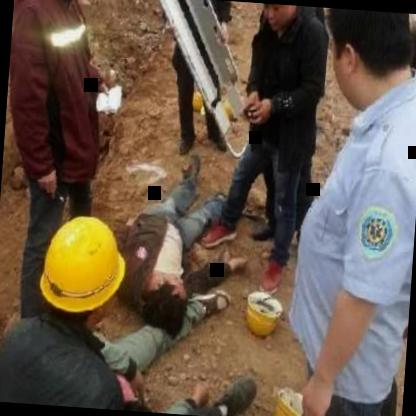helmet: (30, 198, 148, 352)
